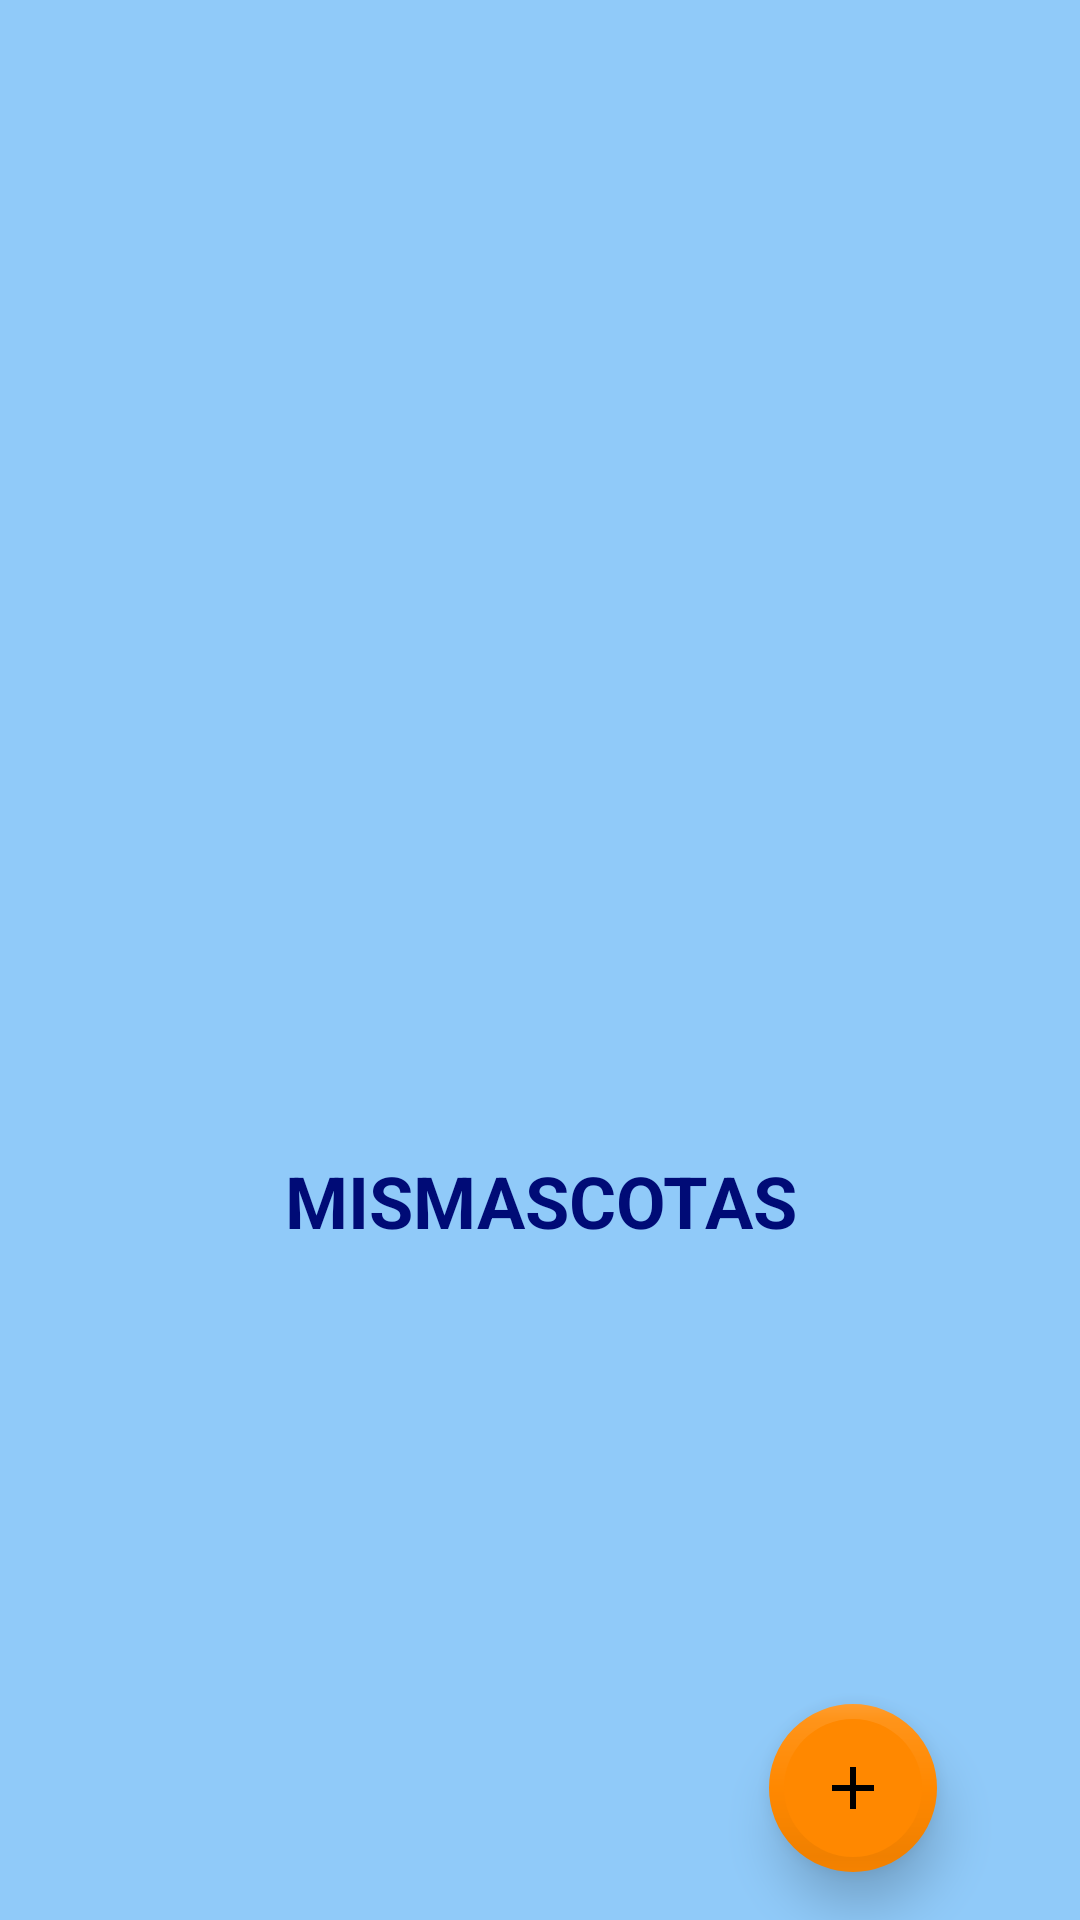

Icon bounding boxes for this 1080*1920 phone screenshot, format (x1, y1, x2, y2):
agregar: (769, 1704, 937, 1872)
